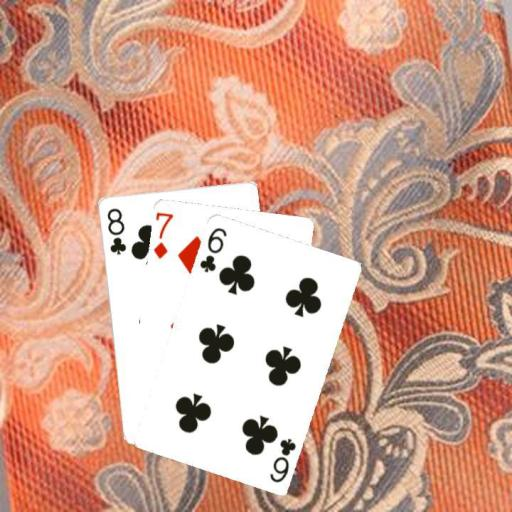6C: (197, 224, 229, 274), (266, 435, 297, 484)
7D: (151, 209, 174, 260)
8C: (103, 205, 127, 256)
